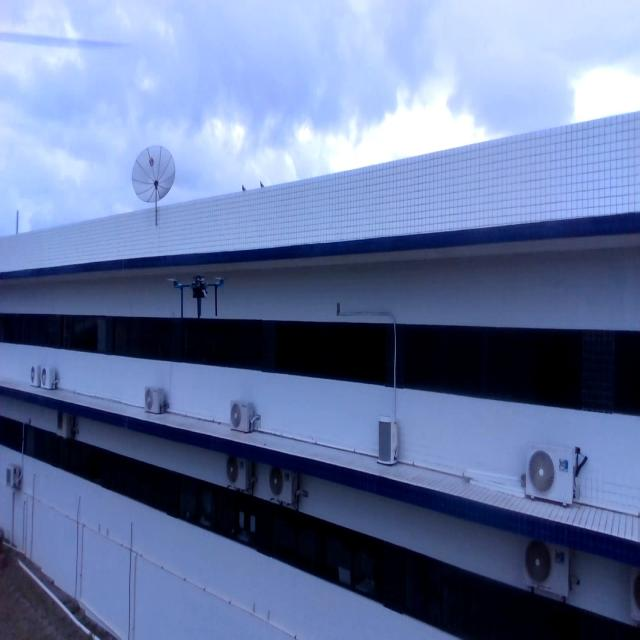-uav-: (166, 273, 227, 326)
